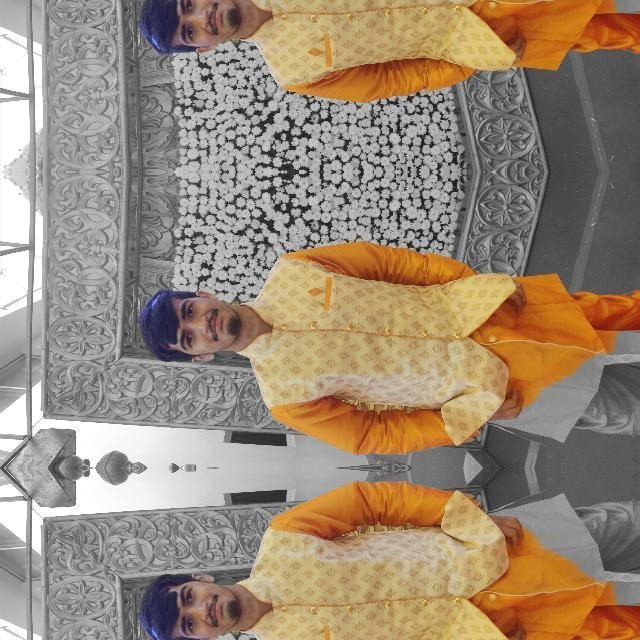person: (66, 277, 218, 559), (66, 377, 217, 640), (66, 0, 217, 65)
